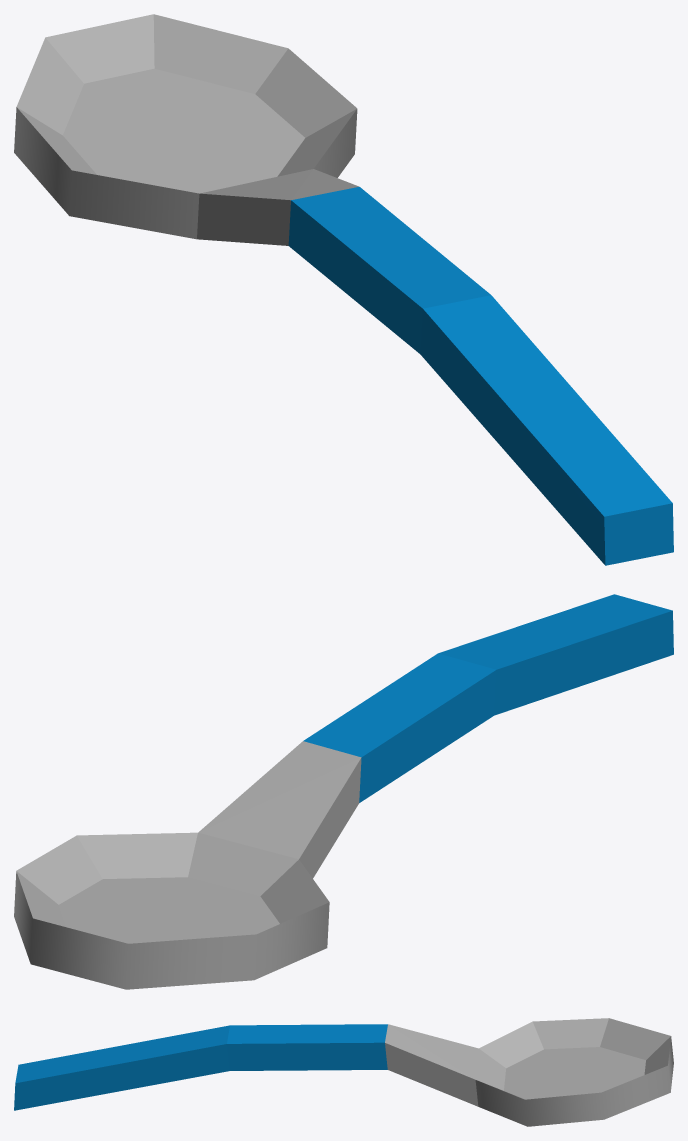
The model's file is Spoon_Blue.fbx.
3 views of the same model, one above another, from view 1: azimuth 30°, elevation 25°; view 2: azimuth 150°, elevation 25°; view 3: azimuth 270°, elevation 25° (orthographic). The views are drawn at different scales.
Parts seen in each view (by area): view 1: Spoon_Blue; view 2: Spoon_Blue; view 3: Spoon_Blue.
Boxes of the visible parts, bbox=[...] form: Spoon_Blue: bbox=[14, 14, 673, 565]; Spoon_Blue: bbox=[14, 594, 673, 989]; Spoon_Blue: bbox=[14, 1018, 673, 1126].
Size of the model in its own units: 4.45 by 1.91 by 16.02.
